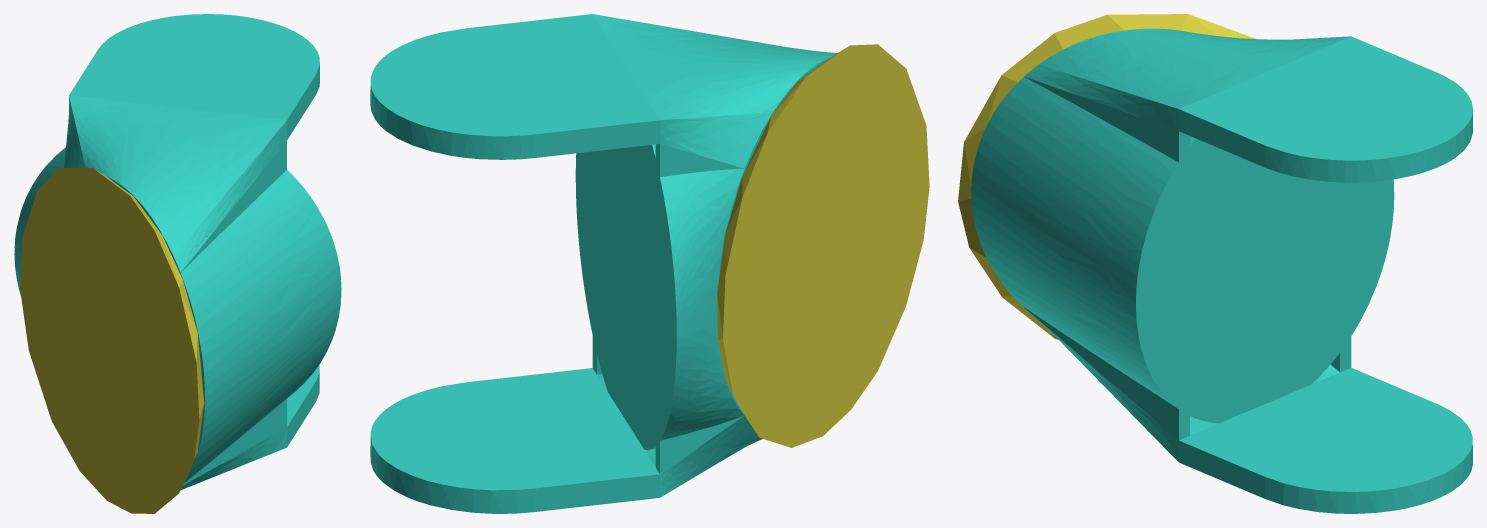
The model's file is hip_bracket_sinister_collision.obj.
3 renders of one model, left to right at view 1: azimuth 30°, elevation 25°; view 2: azimuth 150°, elevation 25°; view 3: azimuth 270°, elevation 25°, orthographic. The views are drawn at different scales.
Parts seen in each view (by area): view 1: Body4, Body3, Body2; view 2: Body3, Body4, Body2; view 3: Body2, Body3, Body4.
Part boxes in pixels (<box>): Body4: <box>20,167,204,513</box>; Body3: <box>64,14,319,490</box>; Body2: <box>14,147,341,483</box>; Body3: <box>370,14,837,513</box>; Body4: <box>717,44,929,447</box>; Body2: <box>575,57,830,449</box>; Body2: <box>971,28,1394,423</box>; Body3: <box>1024,29,1472,513</box>; Body4: <box>958,14,1256,339</box>.
Bounding box in the file's own units: 14.71 × 16 × 21.13.
